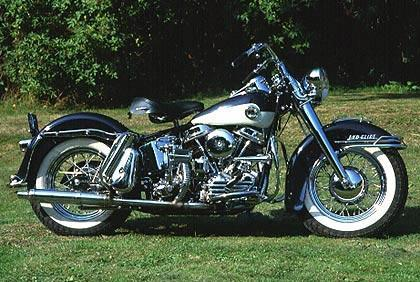motorcycle: (7, 38, 416, 239)
